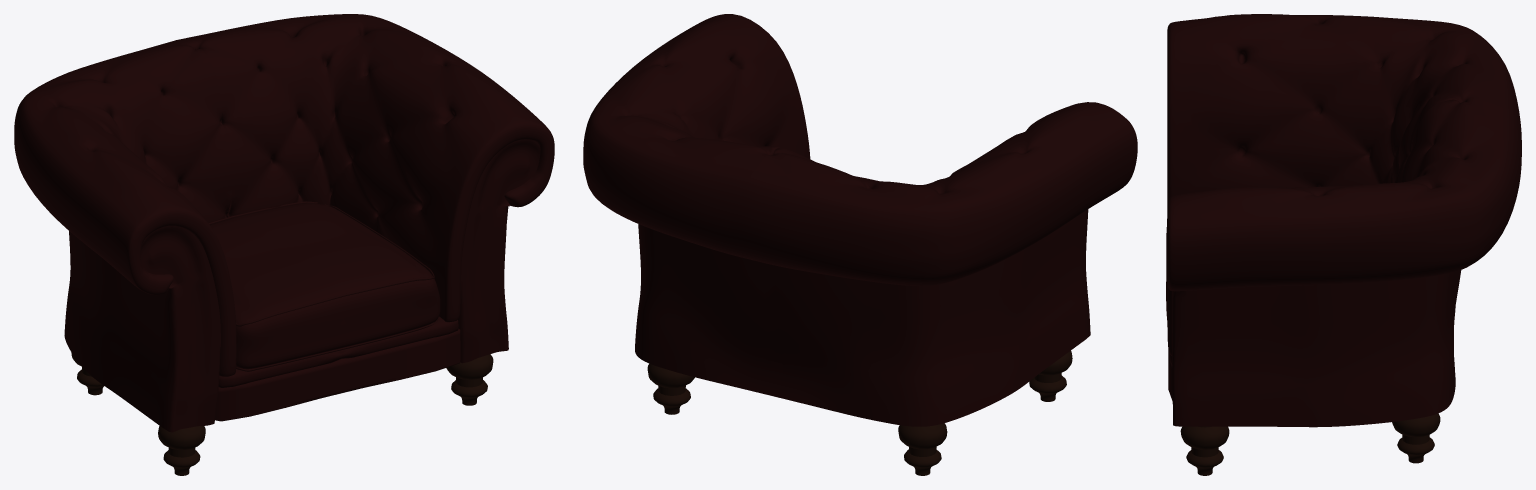
File: Armchair.FBX
The picture shows the model from 3 angles, left to right: view 1: azimuth 30°, elevation 25°; view 2: azimuth 150°, elevation 25°; view 3: azimuth 270°, elevation 25°; orthographic projection. The views are drawn at different scales.
Visible parts, largest first — view 1: armchair; view 2: armchair; view 3: armchair.
Boxes of the visible parts, bbox=[...] form: armchair: bbox=[14, 14, 554, 475]; armchair: bbox=[583, 14, 1137, 475]; armchair: bbox=[1166, 14, 1521, 475].
Size of the model in its own units: 26.04 by 17.51 by 18.59.
